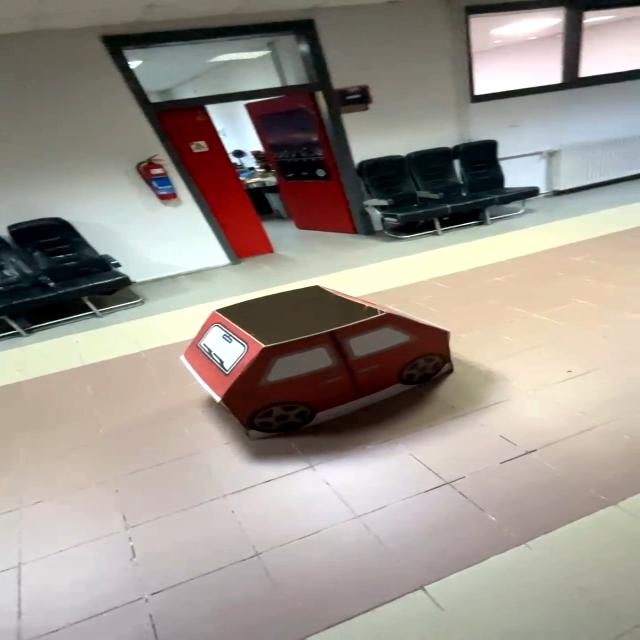red_car: (148, 278, 505, 450)
